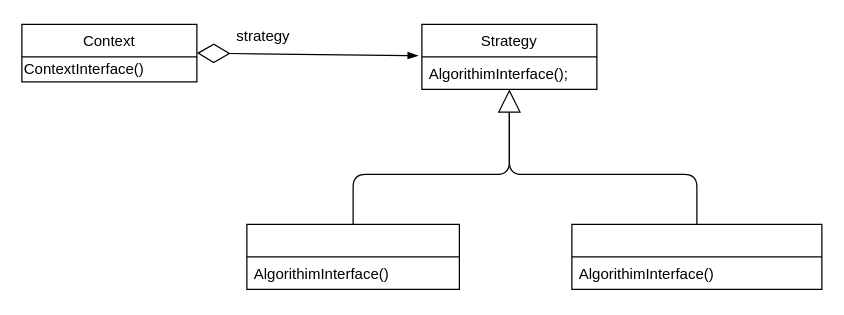
Image size: 844x315. Some labels were removed from this diagram. The box of each missing label's shape, as (x1, y1, x2, y2) in pixels:
AlgoritmoDijkstra: (246, 223, 459, 289)
ConcreteStrategyPre-asignación: (571, 223, 822, 289)
